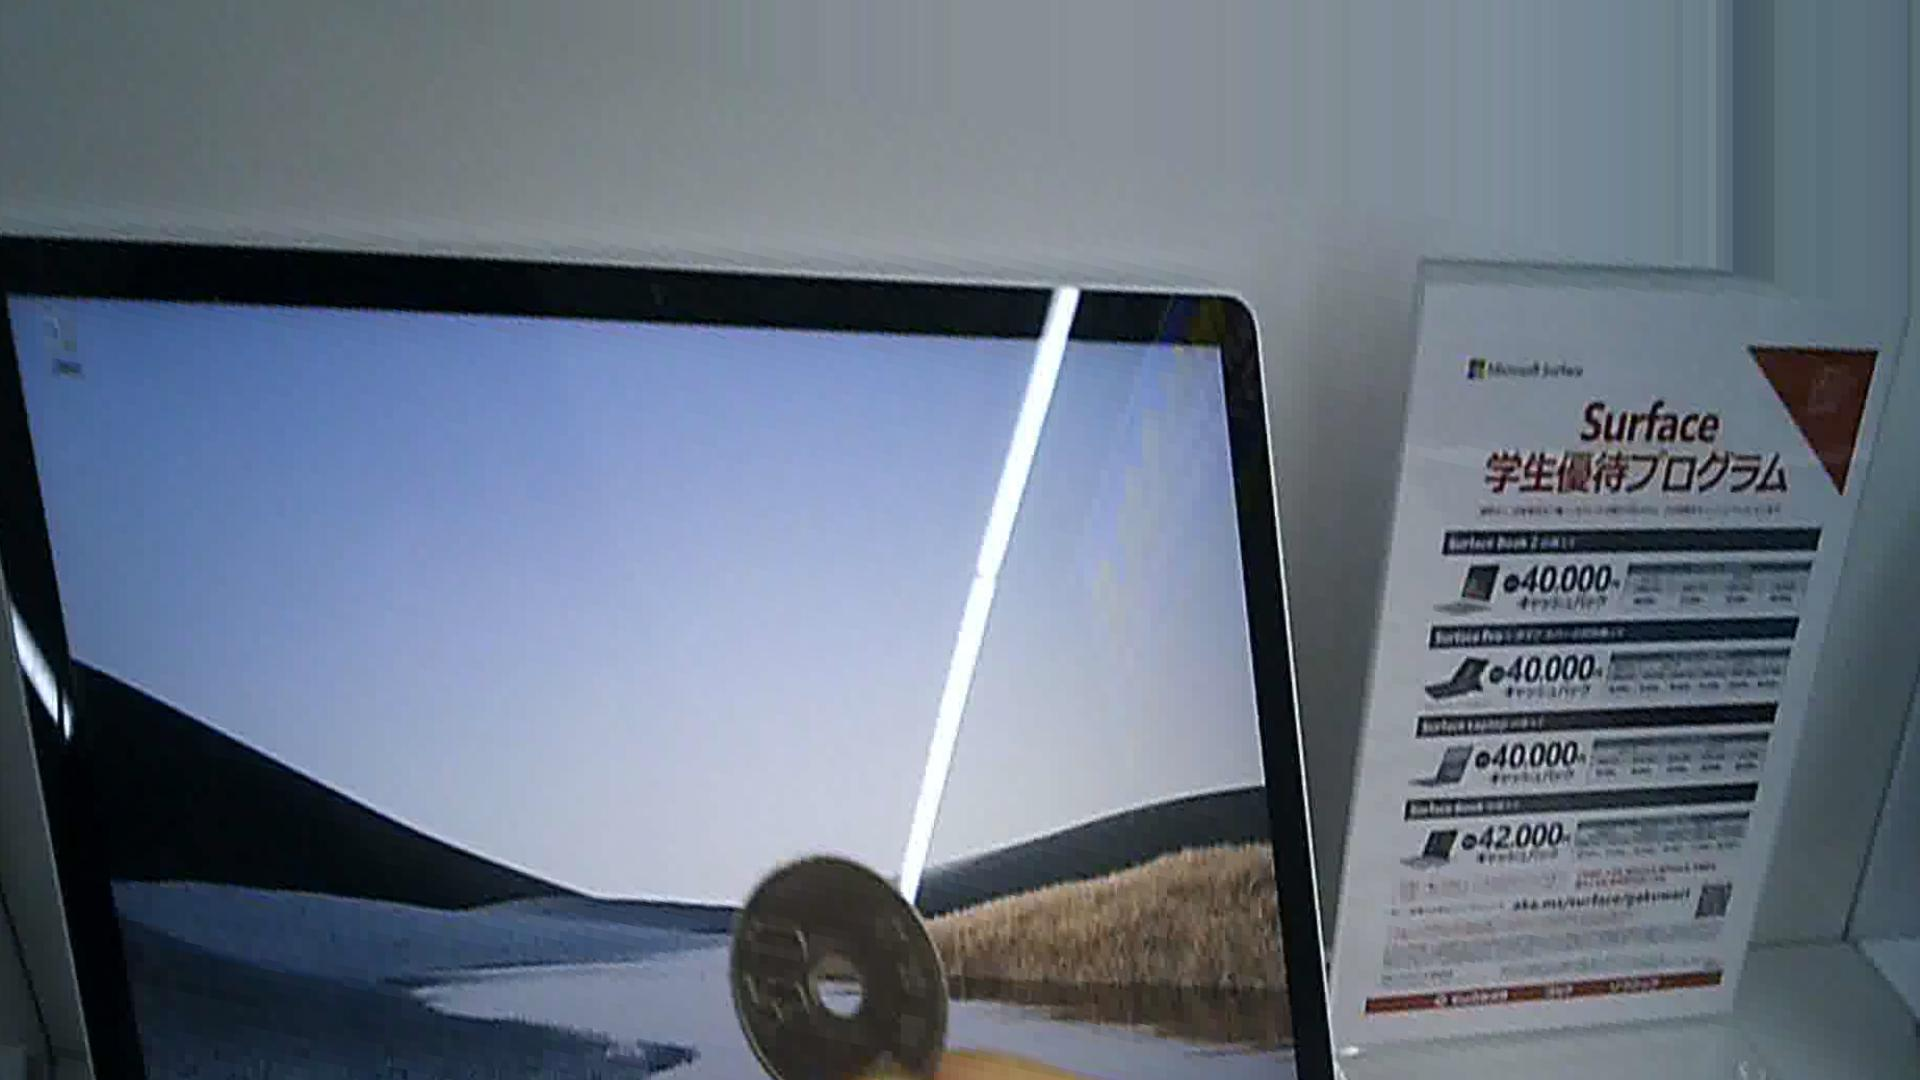50 Yen: (709, 843, 957, 1079)
